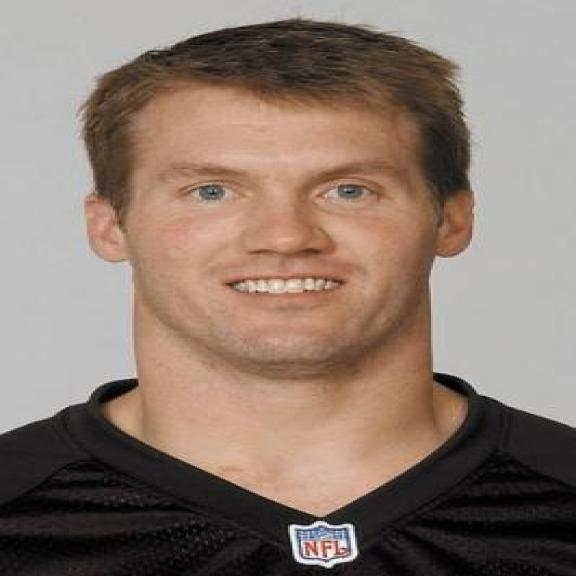face: (84, 79, 484, 378)
